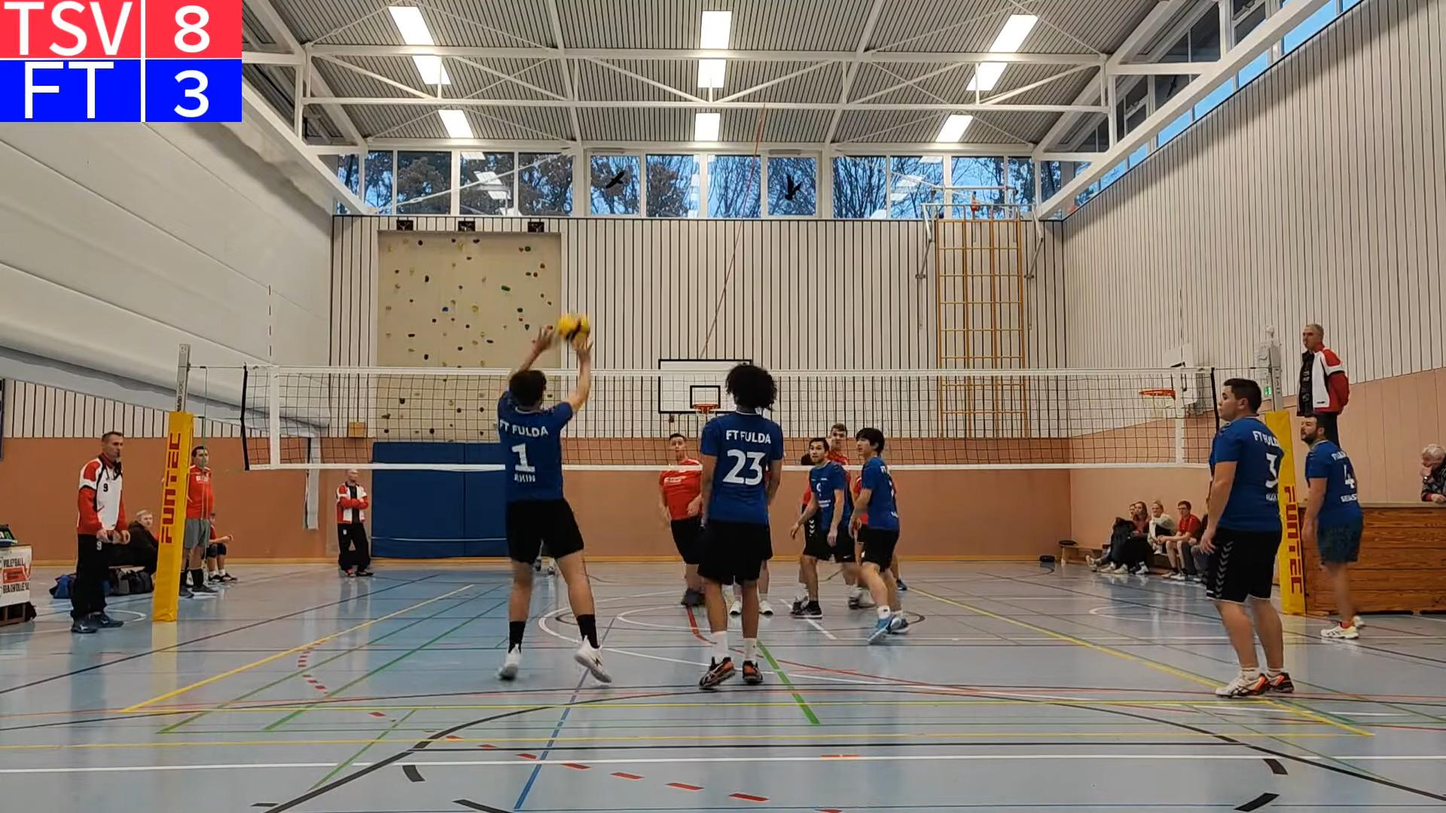ricezione: (491, 330, 595, 687)
